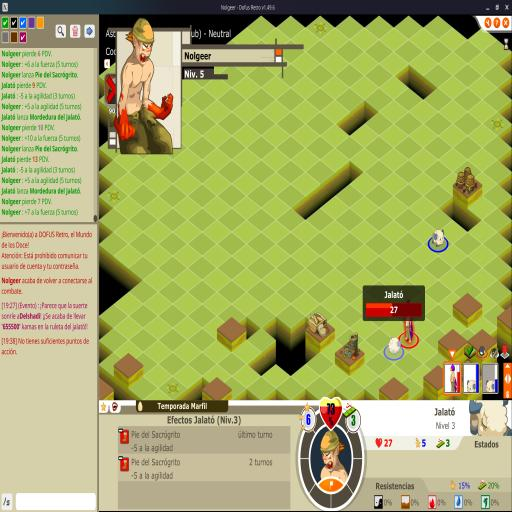Enemigos: (388, 336, 402, 354), (432, 229, 445, 247)
Personaje: (403, 299, 414, 343)
